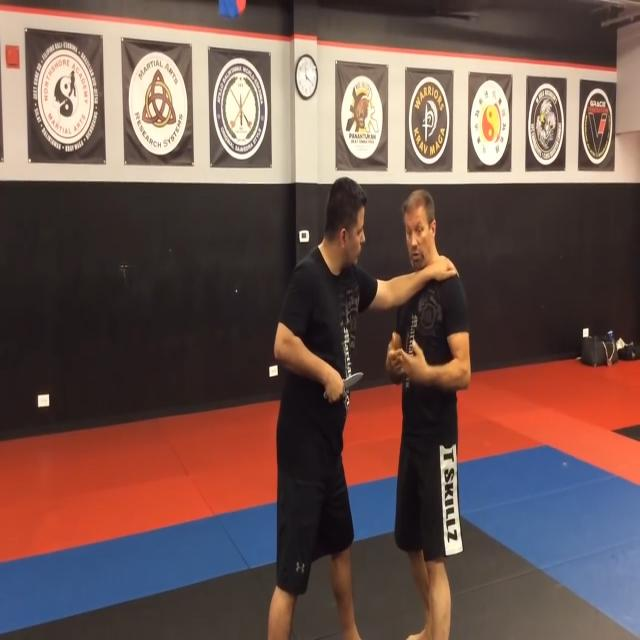knife: (345, 372, 367, 392)
